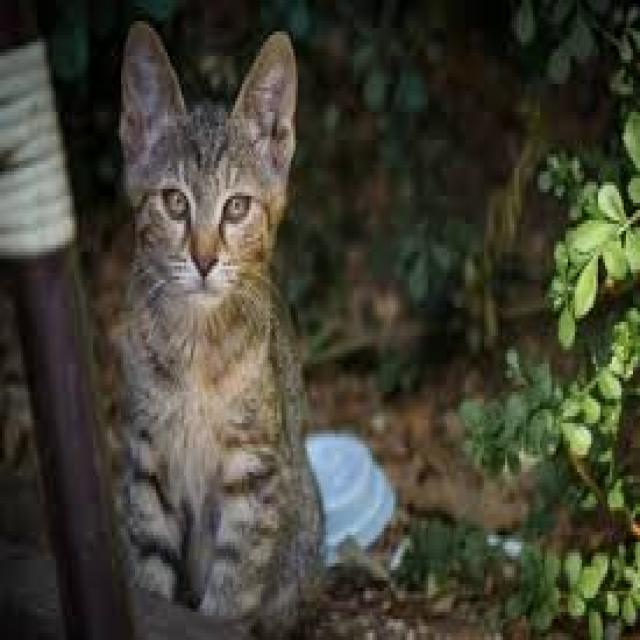Cat: (113, 15, 330, 632)
